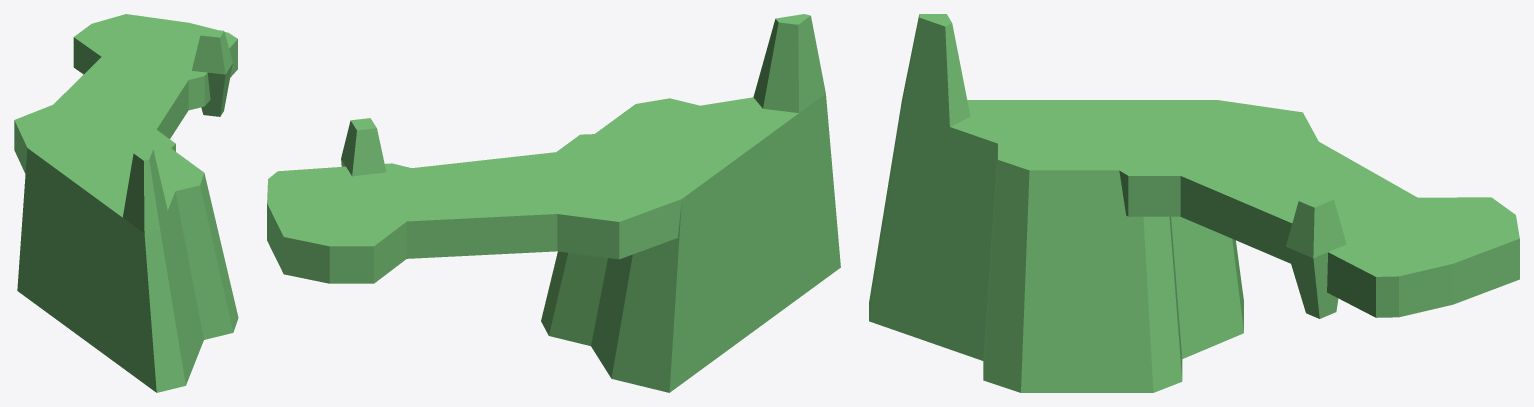
File: x_ZT3_block_28_1_rmstrd.fbx
3 views of the same model, side by side, from view 1: azimuth 30°, elevation 25°; view 2: azimuth 150°, elevation 25°; view 3: azimuth 270°, elevation 25° (orthographic). The views are drawn at different scales.
Parts seen in each view (by area): view 1: x_ZT3_block_28_1_rmstrd1; view 2: x_ZT3_block_28_1_rmstrd1; view 3: x_ZT3_block_28_1_rmstrd1.
Boxes of the visible parts, x1,y1,x2,y2 form: x_ZT3_block_28_1_rmstrd1: (14, 14, 238, 392); x_ZT3_block_28_1_rmstrd1: (267, 14, 840, 392); x_ZT3_block_28_1_rmstrd1: (869, 14, 1519, 392).
Bounding box in the file's own units: 12.33 × 9.49 × 19.16.
